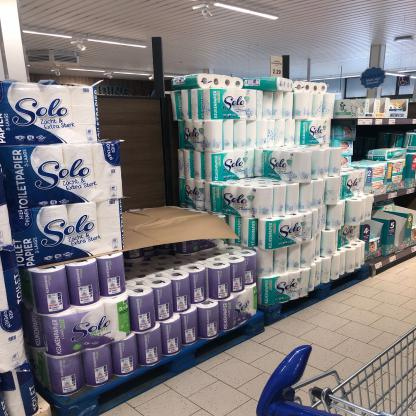prtg: (271, 56, 283, 78)
